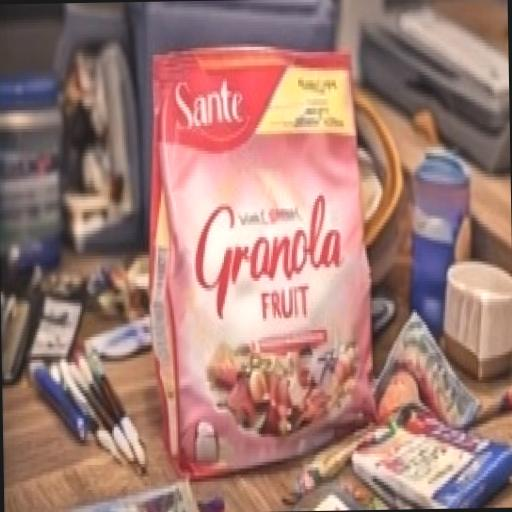granola: (126, 24, 404, 484)
